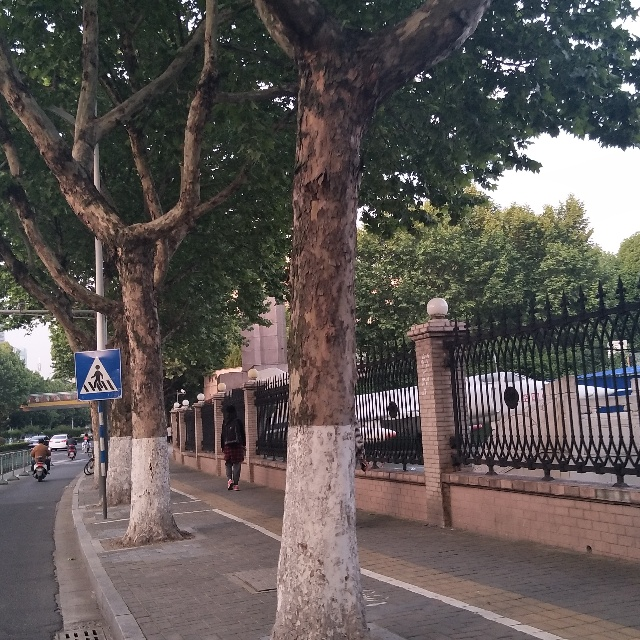crosswalk: (76, 357, 119, 394)
